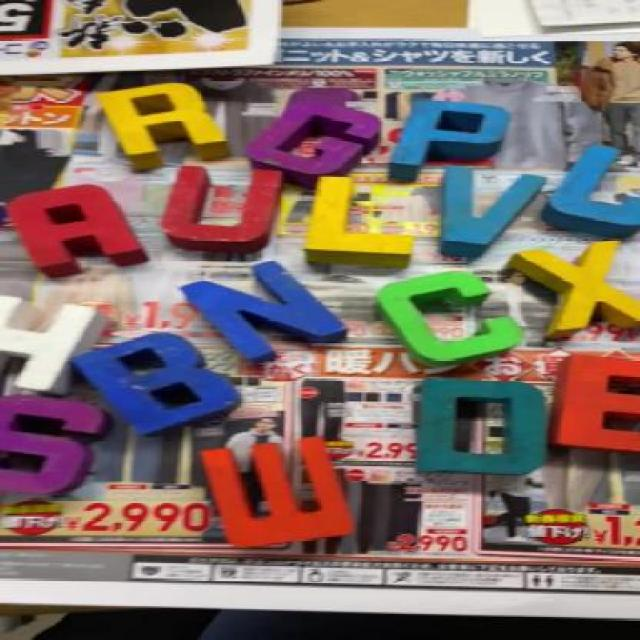A: (9, 185, 149, 269)
B: (82, 328, 245, 444)
C: (382, 267, 530, 367)
D: (410, 379, 555, 479)
G: (257, 106, 389, 176)
L: (307, 177, 424, 266)
N: (185, 263, 357, 359)
P: (383, 100, 514, 174)
R: (102, 81, 235, 167)
S: (0, 394, 111, 503)
U: (171, 168, 287, 260)
V: (439, 171, 543, 252)
W: (202, 434, 358, 546)
X: (518, 241, 632, 336)
